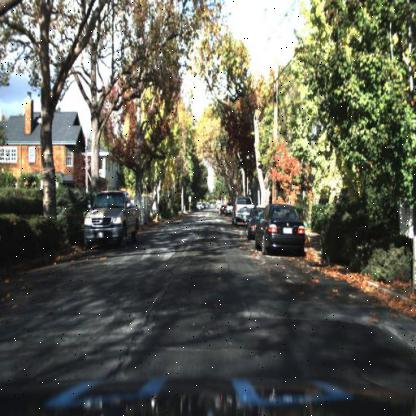car: (80, 192, 137, 253), (254, 203, 309, 253), (229, 190, 255, 228), (234, 197, 249, 228), (247, 208, 258, 244), (219, 204, 226, 218)
